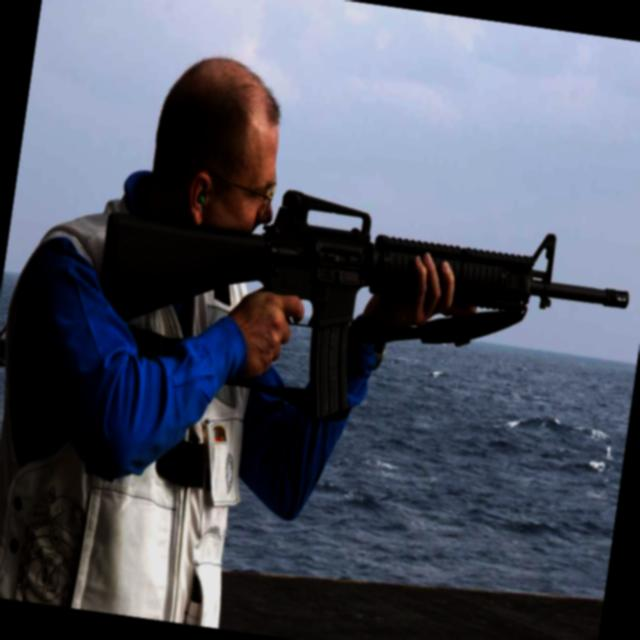m16: (78, 152, 640, 469)
